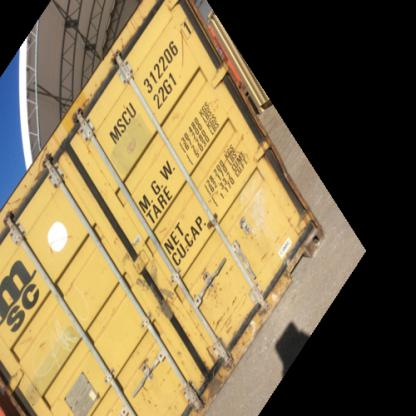Damage: (209, 295, 242, 341), (169, 19, 195, 72), (281, 202, 313, 238), (180, 375, 228, 398), (274, 159, 301, 194), (229, 131, 253, 164), (21, 326, 50, 353), (77, 90, 101, 121), (33, 145, 59, 173), (46, 228, 77, 251), (149, 220, 178, 241), (101, 47, 129, 67), (1, 192, 29, 211), (135, 357, 159, 378), (136, 384, 158, 406), (202, 271, 219, 294), (220, 260, 238, 278), (165, 398, 181, 414), (208, 212, 219, 234), (174, 347, 186, 364), (256, 248, 271, 260)
